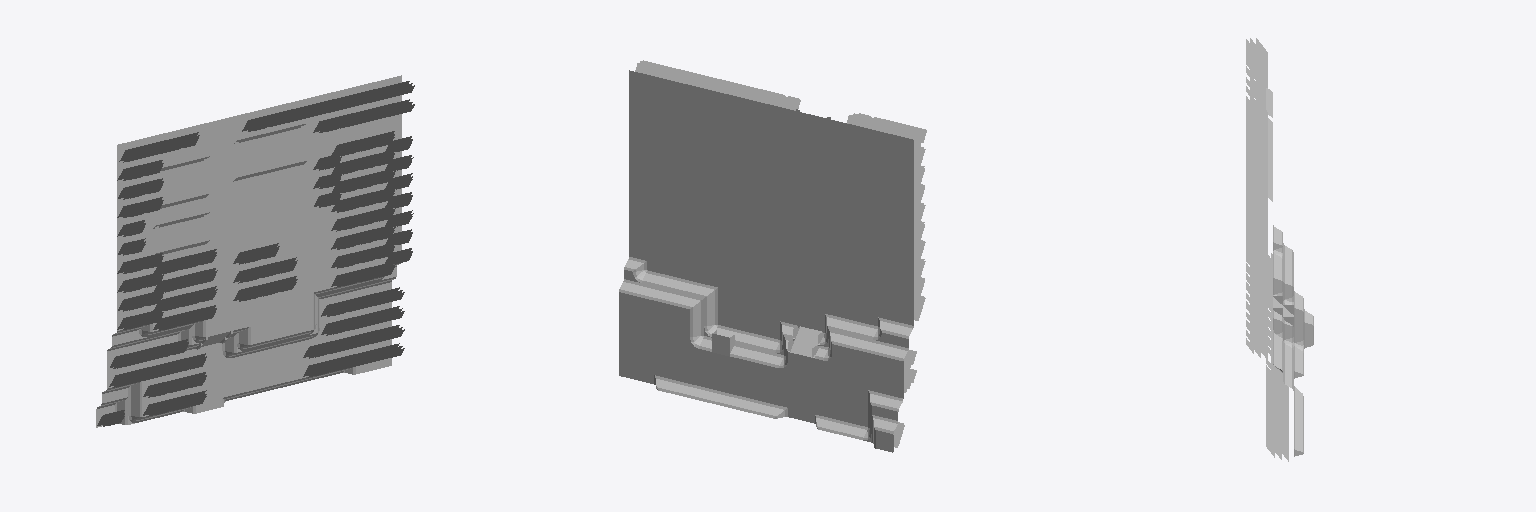
Rendered from Plat_full_04_15.obj.
3 renders of one model, left to right at view 1: azimuth 30°, elevation 25°; view 2: azimuth 150°, elevation 25°; view 3: azimuth 270°, elevation 25°, orthographic.
Visible parts, largest first — view 1: map; view 2: map; view 3: map.
Boxes of the visible parts, <box> form: map: <box>96,75,414,427</box>; map: <box>619,60,926,452</box>; map: <box>1246,38,1313,461</box>.
Bounding box in the file's own units: 32.5 × 32.12 × 6.64.